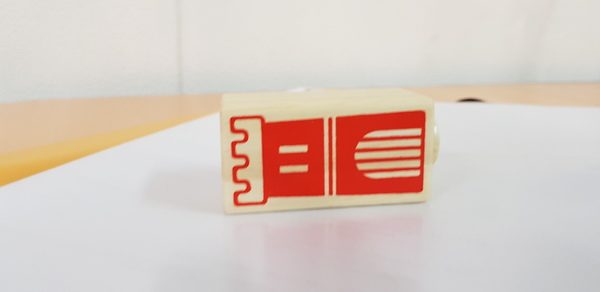tourRouge: (221, 97, 438, 210)
